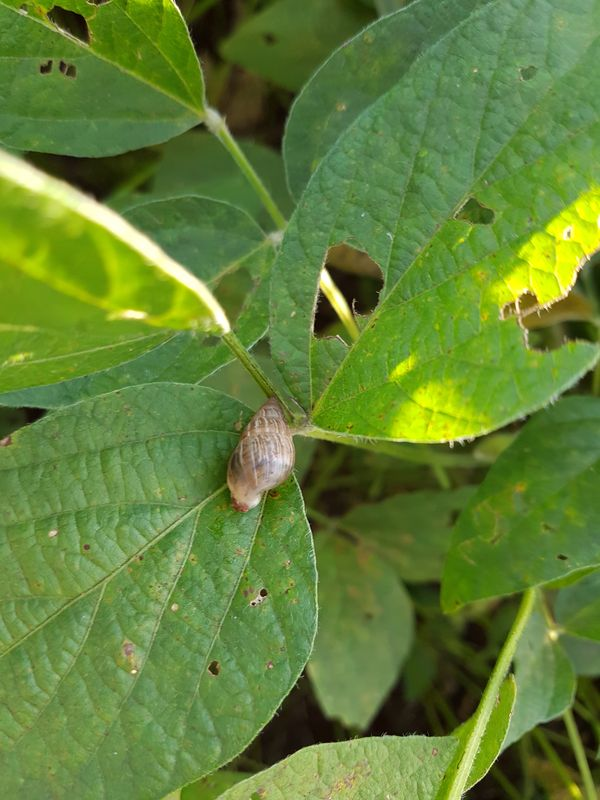Gastropoda: (199, 383, 331, 523)
